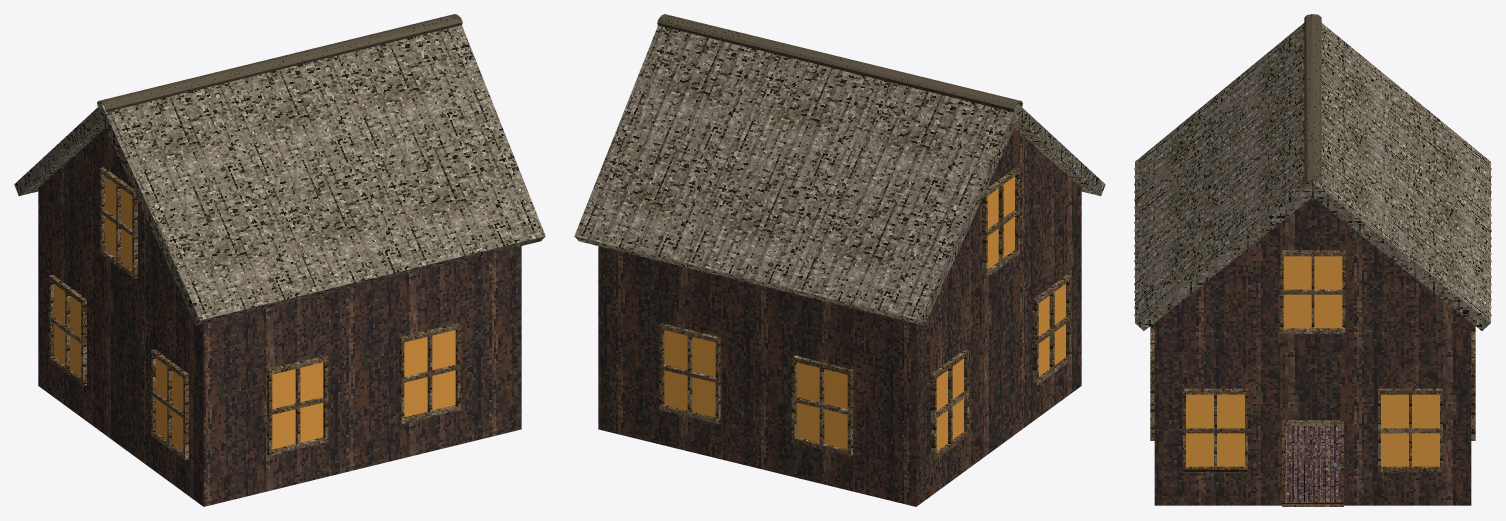
Rendered from House.glb.
3 views of the same model, side by side, from view 1: azimuth 30°, elevation 25°; view 2: azimuth 150°, elevation 25°; view 3: azimuth 270°, elevation 25° (orthographic). The views are drawn at different scales.
Parts seen in each view (by area): view 1: House Base; view 2: House Base; view 3: House Base.
Boxes of the visible parts, bbox=[...] form: House Base: bbox=[14, 14, 545, 506]; House Base: bbox=[574, 14, 1105, 506]; House Base: bbox=[1134, 14, 1491, 506].
Bounding box in the file's own units: 11.23 × 10.49 × 10.19.
6 materials, 5 textured.
